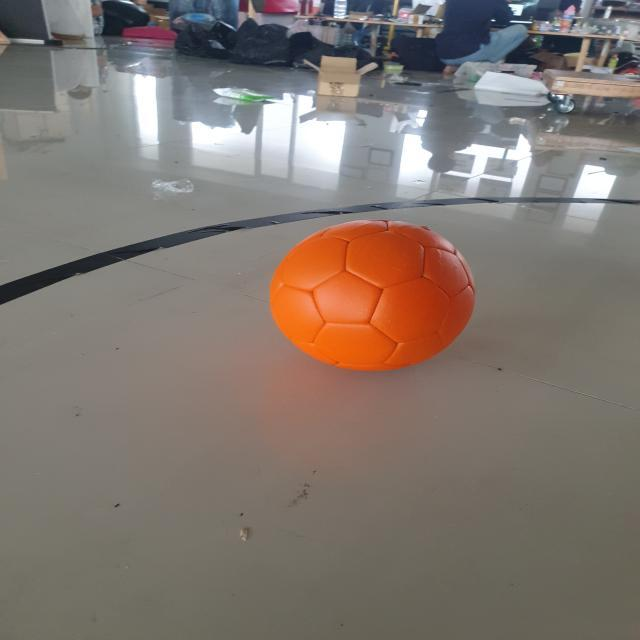bola: (261, 213, 487, 380)
